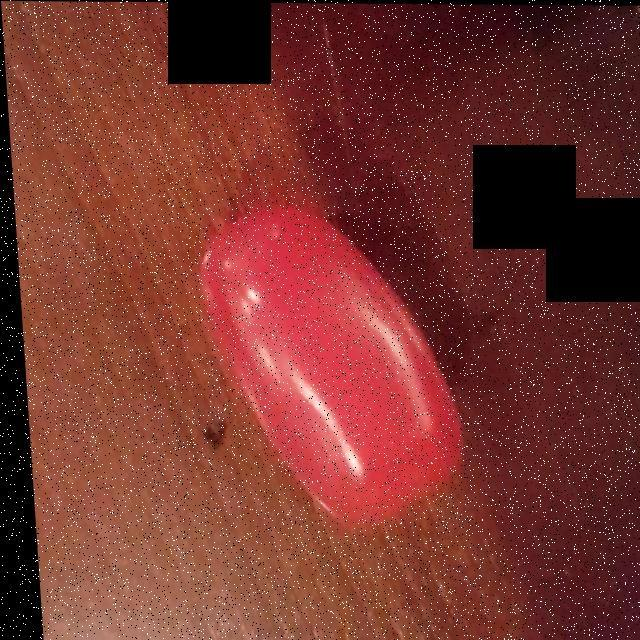tomato: (199, 208, 450, 514)
